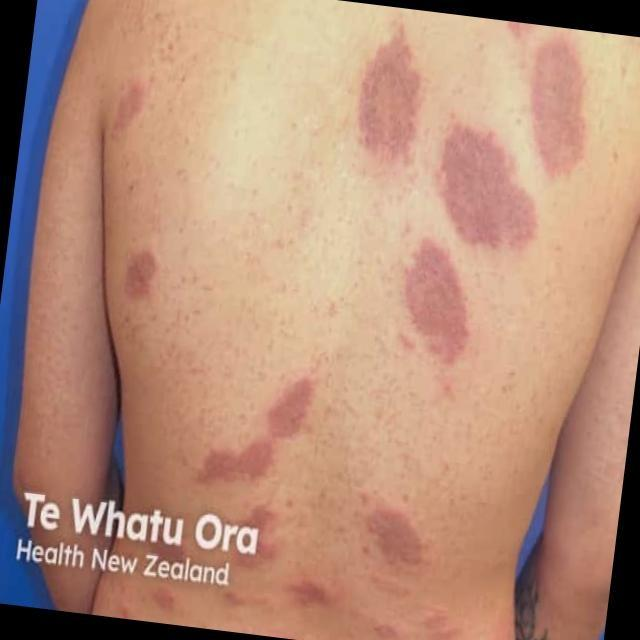Eczema: (343, 36, 587, 366), (143, 392, 456, 640), (117, 250, 163, 307), (108, 88, 146, 133)
